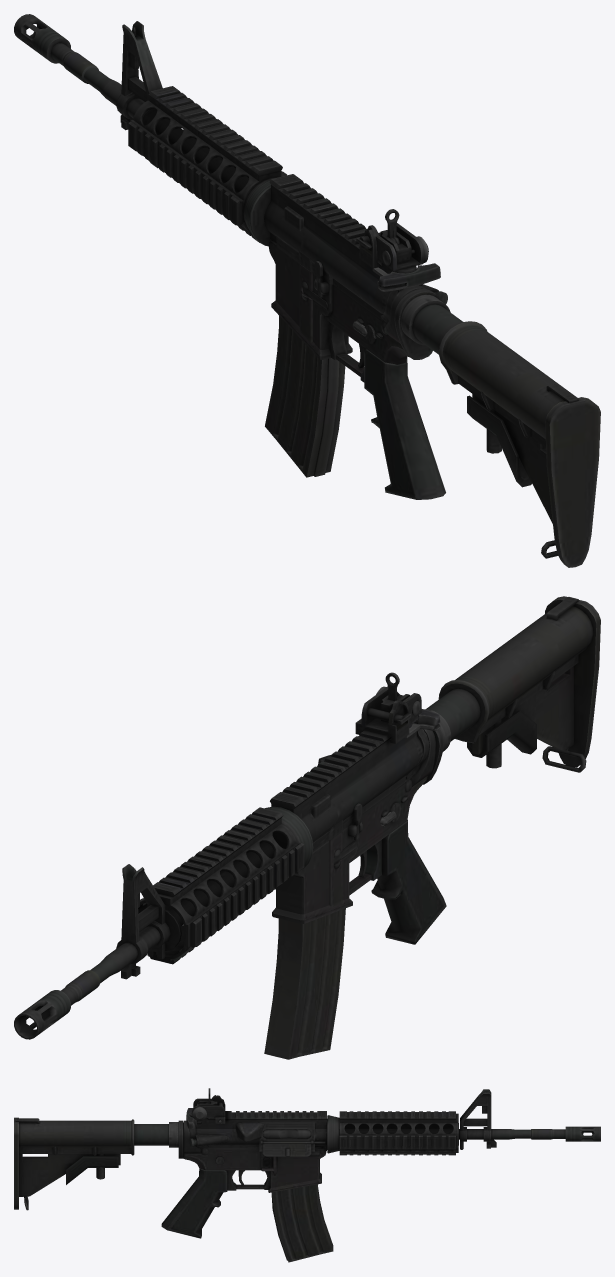
3 views of the same model, one above another, from view 1: azimuth 30°, elevation 25°; view 2: azimuth 150°, elevation 25°; view 3: azimuth 270°, elevation 25° (orthographic). The views are drawn at different scales.
Parts seen in each view (by area): view 1: Main_M4_D_0, Mag1_M4_D_0; view 2: Main_M4_D_0, Mag1_M4_D_0; view 3: Main_M4_D_0, Mag1_M4_D_0, Bolt_M4_D_0.
Part boxes in pixels (bbox=[...]): Main_M4_D_0: bbox=[14, 14, 600, 567]; Mag1_M4_D_0: bbox=[265, 316, 345, 477]; Main_M4_D_0: bbox=[14, 596, 600, 1039]; Mag1_M4_D_0: bbox=[264, 908, 345, 1059]; Main_M4_D_0: bbox=[14, 1088, 600, 1238]; Mag1_M4_D_0: bbox=[271, 1184, 333, 1262]; Bolt_M4_D_0: bbox=[263, 1129, 311, 1138].
Size of the model in its own units: 0.0675 by 0.2775 by 0.8652.
Materials: 2 (2 with a texture image).
